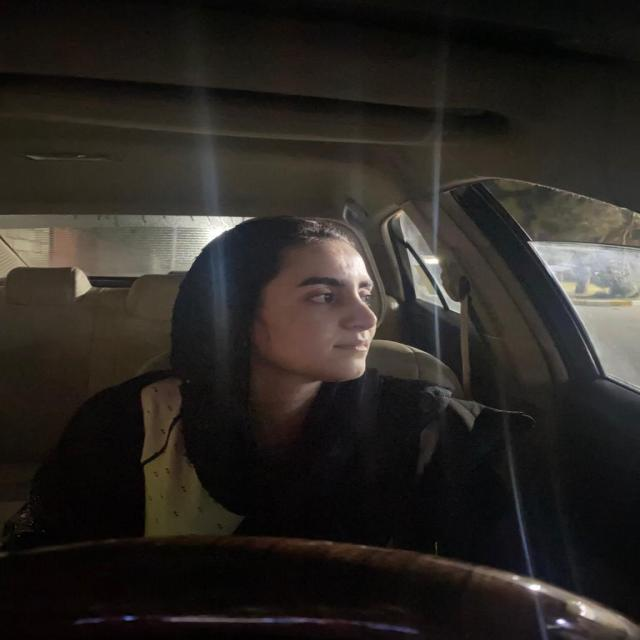LeftRight: (171, 205, 400, 417)
